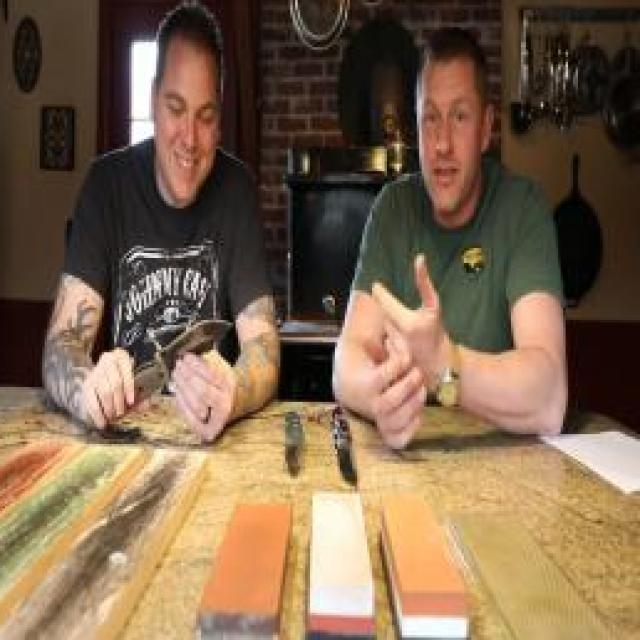knife: (141, 305, 243, 397)
